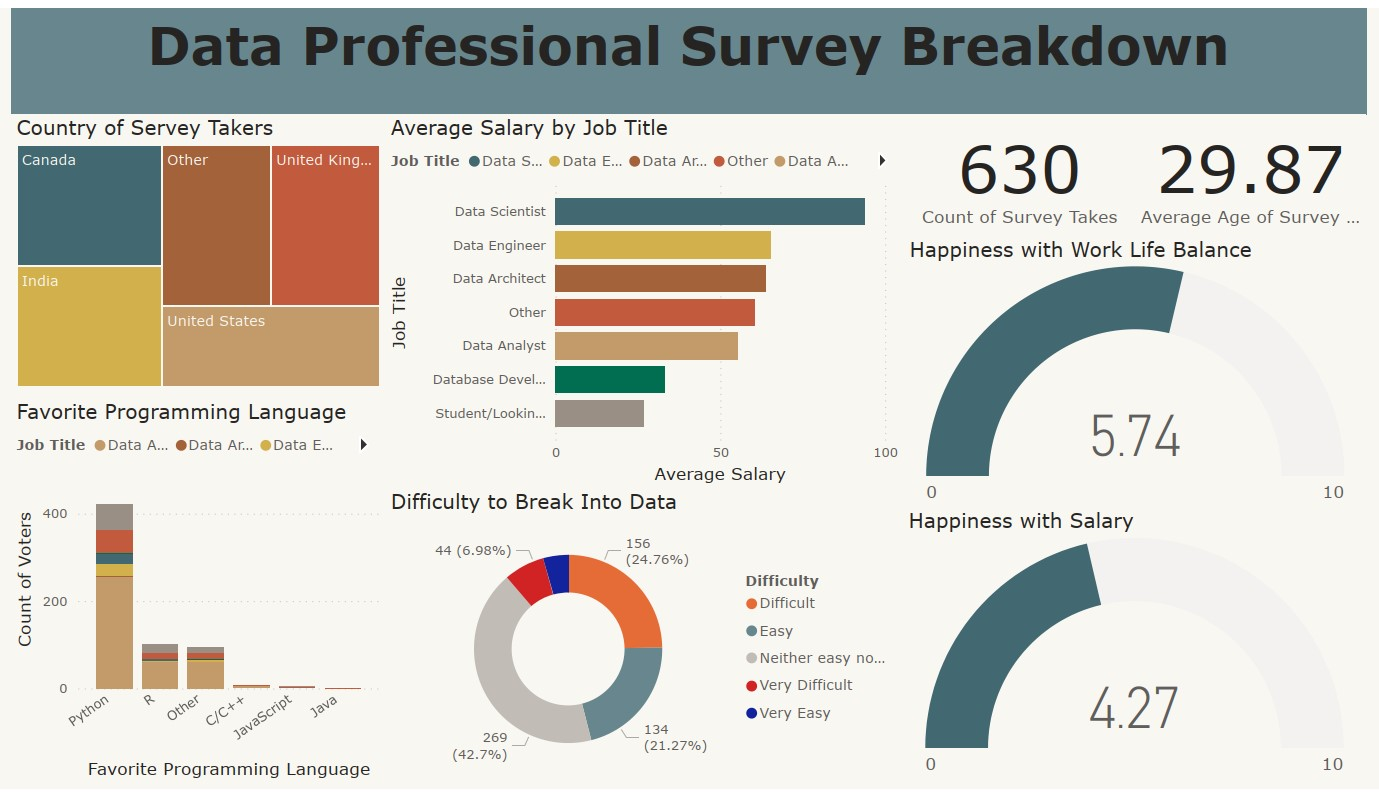

This screenshot's page, from the dashboard's own definition file:
{"tool":"powerbi","page":{"name":"Page 1","canvas":[1280,720],"ordinal":0},"visuals":[{"type":"textbox","box":[9.8,0,1250.6,98.1],"z":0},{"type":"card","fields":{"Values":["Count(Data Professional Survey.Unique ID)"]},"box":[833.7,98.1,213.3,112.8],"z":1000},{"type":"card","fields":{"Values":["Avg(Data Professional Survey.Q10 - Current Age)"]},"box":[1047,98.1,213.3,112.8],"z":2000},{"type":"barChart","title":"Average Salary by Job Title","fields":{"Category":["Data Professional Survey.Q1 - Which Title Best Fits your Current Role?.1"],"Y":["Avg(Data Professional Survey.Average Salary)"],"Series":["Data Professional Survey.Q1 - Which Title Best Fits your Current Role?.1"]},"box":[355.1,98.3,478.2,345.4],"z":3000},{"type":"columnChart","title":"Favorite Programming Language","fields":{"Category":["Data Professional Survey.Q5 - Favorite Programming Language.1"],"Y":["CountNonNull(Data Professional Survey.Unique ID)"],"Series":["Data Professional Survey.Q1 - Which Title Best Fits your Current Role?.1"]},"box":[9.7,360.4,345.4,356],"z":4000},{"type":"treemap","title":"Country of Servey Takers","fields":{"Group":["Data Professional Survey.Q11 - Which Country do you live in?.1"],"Values":["Count(Data Professional Survey.Q11 - Which Country do you live in?.1)"]},"box":[9.7,98.3,345.4,256.8],"z":5000},{"type":"gauge","title":"Happiness with Work Life Balance","fields":{"Y":["Avg(Data Professional Survey.Q6 - How Happy are you in your Current Position with the following? (Work/Life Balance))"],"MinValue":["Min(Data Professional Survey.Q6 - How Happy are you in your Current Position with the following? (Work/Life Balance))1"],"MaxValue":["Max(Data Professional Survey.Q6 - How Happy are you in your Current Position with the following? (Work/Life Balance))2"]},"box":[833.7,210.9,426.7,255],"z":6000},{"type":"gauge","title":"Happiness with Salary","fields":{"Y":["Avg(Data Professional Survey.Q6 - How Happy are you in your Current Position with the following? (Salary))"],"MinValue":["Min(Data Professional Survey.Q6 - How Happy are you in your Current Position with the following? (Salary))"],"MaxValue":["Max(Data Professional Survey.Q6 - How Happy are you in your Current Position with the following? (Salary))"]},"box":[833.4,461.4,426.9,255.1],"z":7000},{"type":"donutChart","title":"Difficulty to Break Into Data","fields":{"Y":["CountNonNull(Data Professional Survey.Q7 - How difficult was it for you to break into Data?)"],"Series":["Data Professional Survey.Q7 - How difficult was it for you to break into Data?"]},"box":[355.1,443.7,478.2,272.8],"z":8000}]}

Visuals, with their boxes in screenshot pixels (x1, y1, x2, y2):
textbox: 18/4/1378/112
card - Count(Data Professional Survey.Unique ID): 926/112/1160/236
card - Avg(Data Professional Survey.Q10 - Current Age): 1160/112/1378/236
"Average Salary by Job Title" barChart: 398/112/925/492
"Favorite Programming Language" columnChart: 18/401/398/793
"Country of Servey Takers" treemap: 18/112/398/395
"Happiness with Work Life Balance" gauge: 926/236/1378/517
"Happiness with Salary" gauge: 925/512/1378/793
"Difficulty to Break Into Data" donutChart: 398/492/925/793
